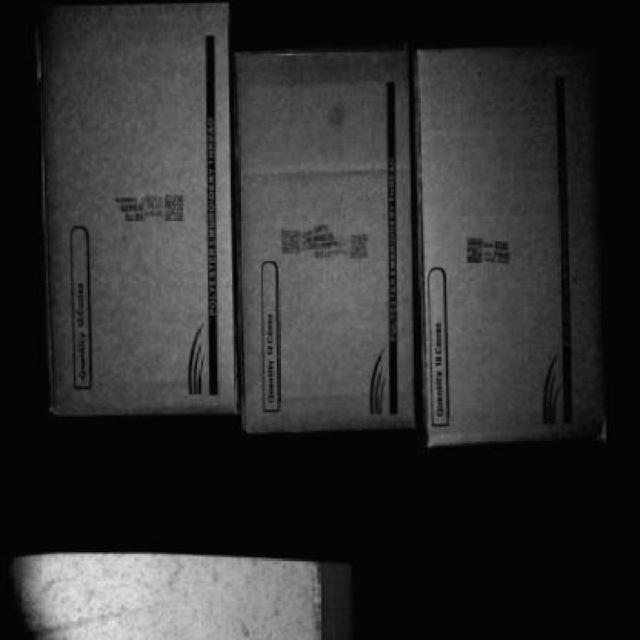cardboxes: (38, 2, 234, 416), (421, 48, 602, 437), (243, 49, 412, 431)
